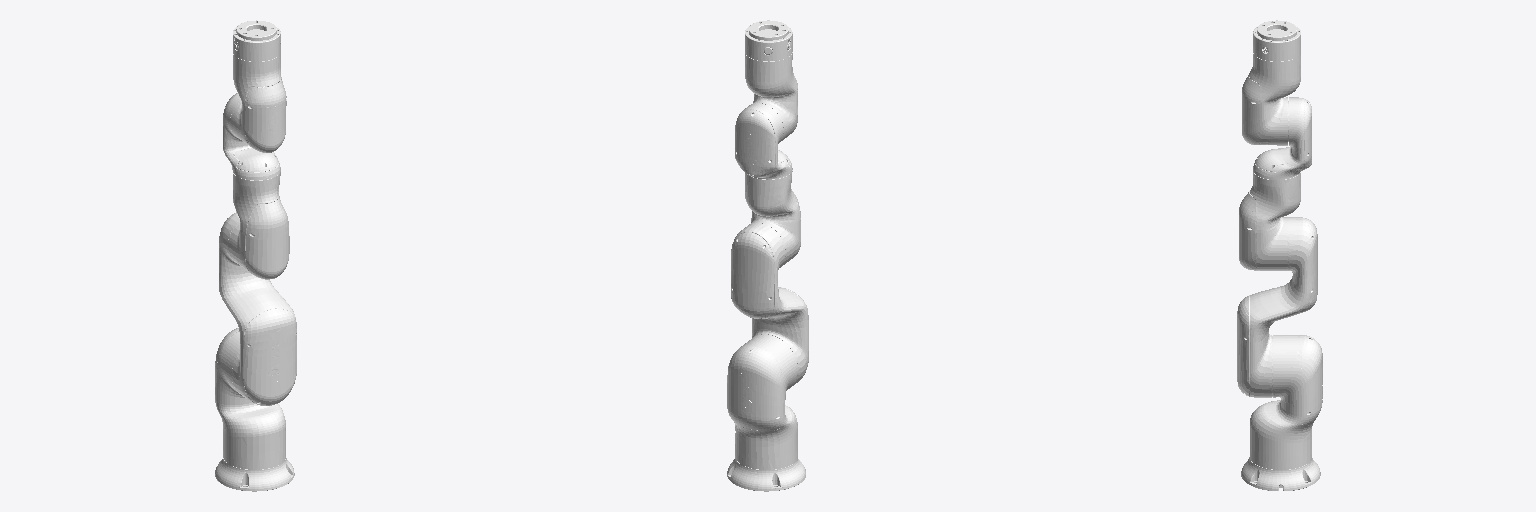
robot.urdf — minicobo_1a:
<?xml version="1.0" encoding="utf-8"?>
<!-- This URDF was automatically created by SolidWorks to URDF Exporter! Originally created by [author] ([email redacted])
     Commit Version: 1.6.0-4-g7f85cfe  Build Version: 1.6.7995.38578
     For more information, please see http://wiki.ros.org/sw_urdf_exporter -->
<robot name="minicobo_1a">

<!-- LINK -->
    <link name="world"/>

  <link name="Link0">
    <inertial>
      <origin xyz="-0.000169872459617813 -2.36448827889745E-08 0.0132846923173683"  rpy="0 0 0" />
      <mass value="3.76174" />
      <inertia ixx="0.000673719313504642" ixy="-1.30755705487849E-08" ixz="-1.3262407834936E-06" iyy="0.000666781851440875" iyz="-1.80735801539484E-11" izz="0.00123663316539255" />
    </inertial>
    <visual>
      <origin xyz="0 0 0" rpy="0 0 0" />
      <geometry>
        <mesh filename="package://minicobo_v14/meshes/Link0.dae" />
      </geometry>
      <material name="">
        <color rgba="1 1 1 1" />
      </material>
    </visual>
    <collision>
      <origin xyz="0 0 0" rpy="0 0 0" />
      <geometry>
        <mesh  filename="package://minicobo_v14/meshes/Link0.dae" />
      </geometry>
    </collision>
  </link>

  <link name="Link1">
    <inertial>
      <origin xyz="-1.99985037409469E-06 0.0134079971540169 -0.061631393869219" rpy="0 0 0" />
      <mass value="3.1571" />
      <inertia ixx="0.0128375469787325" ixy="2.28361925094216E-07" ixz="5.81760635898215E-08" iyy="0.0126762000445666" iyz="-0.00161037595218336" izz="0.00390574573183596" />
    </inertial>
    <visual>
      <origin xyz="0 0 0" rpy="0 0 0" />
      <geometry>
        <mesh filename="package://minicobo_v14/meshes/Link1.dae" />
      </geometry>
      <material
        name="">
        <color rgba="1 1 1 1" />
      </material>
    </visual>
    <collision>
      <origin xyz="0 0 0" rpy="0 0 0" />
      <geometry>
        <mesh  filename="package://minicobo_v14/meshes/Link1.dae" />
      </geometry>
    </collision>
  </link>

<link name="Link2">
    <inertial>
      <origin xyz="0.090613 -1.3771E-06 0.0043964"  rpy="0 0 0" />
      <mass value="1.0141" />
      <inertia ixx="0.0019174" ixy="6.2208E-07" ixz="0.0022687" iyy="0.0073149"  iyz="-3.3214E-07" izz="0.0064681" />
    </inertial>
    <visual>
      <origin xyz="0 0 0" rpy="0 0 0" />
      <geometry>
        <mesh filename="package://minicobo_v14/meshes/Link2.dae" />
      </geometry>
      <material name="">
        <color rgba="1 1 1 1" />
      </material>
    </visual>
    <collision>
      <origin xyz="0 0 0" rpy="0 0 0" />
      <geometry>
        <mesh filename="package://minicobo_v14/meshes/Link2.dae" />
      </geometry>
    </collision>
  </link>

<link name="Link3">
    <inertial>
      <origin xyz="-2.836E-07 0.042086 0.012428" rpy="0 0 0" />
      <mass  value="2.018" />
      <inertia ixx="0.0055107" ixy="2.2287E-08" ixz="-3.4784E-08" iyy="0.0017496" iyz="0.0005528" izz="0.0052708" />
    </inertial>
    <visual>
      <origin xyz="0 0 0" rpy="0 0 0" />
      <geometry>
        <mesh filename="package://minicobo_v14/meshes/Link3.dae" />
      </geometry>
      <material name="">
        <color rgba="1 1 1 1" />
      </material>
    </visual>
    <collision>
      <origin xyz="0 0 0" rpy="0 0 0" />
      <geometry>
        <mesh filename="package://minicobo_v14/meshes/Link3.dae" />
      </geometry>
    </collision>
  </link>

<link name="Link4">
    <inertial>
      <origin xyz="-5.23366787087349E-06 0.025945911865393 -0.0349284126752025" rpy="0 0 0" />
      <mass value="0.412340000009804" />
      <inertia ixx="0.000648308078586465" ixy="2.01279577389176E-08" ixz="-2.91846428270101E-08" iyy="0.000622438484108618" iyz="-0.000147788635079694" izz="0.000313549566736677" />
    </inertial>
    <visual>
      <origin xyz="0 0 0" rpy="0 0 0" />
      <geometry>
        <mesh filename="package://minicobo_v14/meshes/Link4.dae" />
      </geometry>
      <material name="">
        <color rgba="1 1 1 1" />
      </material>
    </visual>
    <collision>
      <origin xyz="0 0 0" rpy="0 0 0" />
      <geometry>
        <mesh filename="package://minicobo_v14/meshes/Link4.dae" />
      </geometry>
    </collision>
  </link>

<link name="Link5">
    <inertial>
      <origin xyz="8.7254E-06 0.044553 0.010268" rpy="0 0 0" />
      <mass  value="1.6793" />
      <inertia ixx="0.0040718" ixy="4.0506E-07"  ixz="1.0998E-07" iyy="0.0013014" iyz="0.00040116" izz="0.0039042" />
    </inertial>
    <visual>
      <origin xyz="0 0 0" rpy="0 0 0" />
      <geometry>
        <mesh filename="package://minicobo_v14/meshes/Link5.dae" />
      </geometry>
      <material name="">
        <color rgba="1 1 1 1" />
      </material>
    </visual>
    <collision>
      <origin xyz="0 0 0" rpy="0 0 0" />
      <geometry>
        <mesh filename="package://minicobo_v14/meshes/Link5.dae" />
      </geometry>
    </collision>
  </link>

<link name="Link6">
    <inertial>
      <origin xyz="-2.33954680956047E-05 3.42676856690269E-05 -0.0202928698270544" rpy="0 0 0" />
      <mass value="0.311970001247665" />
      <inertia ixx="0.00014377819366" ixy="-8.50913479195225E-07"  ixz="-2.37501745813128E-07"  iyy="0.000142682702873271"  iyz="-3.26920852568197E-08" izz="0.000221812602025683" />
    </inertial>
    <visual>
      <origin xyz="0 0 0"  rpy="0 0 0" />
      <geometry>
        <mesh  filename="package://minicobo_v14/meshes/Link6.dae" />
      </geometry>
      <material name="">
        <color rgba="1 1 1 1" />
      </material>
    </visual>
    <collision>
      <origin xyz="0 0 0" rpy="0 0 0" />
      <geometry>
        <mesh filename="package://minicobo_v14/meshes/Link6.dae" />
      </geometry>
    </collision>
  </link>

<link name="dummy_tcp">
</link>

<link name="tool0">
    <visual>
        <origin xyz = "0 -0.15 0" rpy = "0 0.7853 0" />
        <geometry>
           <mesh filename="package://minicobo_v14/meshes/jaka_camera_endpoint.dae" scale="0.01 0.01 0.01" />
         </geometry>
         <material name = "red">
             <color rgba = "1 0 0  1" />
         </material>
     </visual>
</link>

  <!-- JOINT -->

    <joint name="world_joint" type="fixed">
        <parent link="world"/>
        <child link="Link0"/>
    </joint>

  <joint name="Joint1" type="revolute">
    <origin xyz="0 0 0.187" rpy="0 0 0" />
    <parent link="Link0" />
    <child link="Link1" />
    <axis xyz="0 0 1" />
    <limit lower="-6.28" upper="6.28"  effort="100" velocity="1.57" />
  </joint>

  <joint  name="Joint2" type="revolute">
    <origin xyz="0 -0.006 0" rpy="1.5708 -1.5708 0" />
    <parent  link="Link1" />
    <child link="Link2" />
    <axis xyz="0 0 1" />
    <limit lower="-2.09" upper="2.09" effort="100" velocity="1.57" />
  </joint>

  <joint  name="Joint3" type="revolute">
    <origin xyz="0.21 0 0" rpy="0 0 -1.5708" />
    <parent link="Link2" />
    <child link="Link3" />
    <axis xyz="0 0 1" />
    <limit lower="-2.27" upper="2.27" effort="100" velocity="1.57" />
  </joint>

  <joint name="Joint4" type="revolute">
    <origin xyz="0 0.2105 0" rpy="-1.5708 0 0" />
    <parent link="Link3" />
    <child link="Link4" />
    <axis xyz="0 0 1" />
    <limit lower="-6.28" upper="6.28" effort="100" velocity="1.57" />
  </joint>

  <joint name="Joint5" type="revolute">
    <origin xyz="0 0 0" rpy="1.5708 0 0" />
    <parent link="Link4" />
    <child link="Link5" />
    <axis xyz="0 0 1" />
    <limit lower="-2.09" upper="2.09" effort="100" velocity="1.57" />
  </joint>

  <joint name="Joint6" type="revolute">
    <origin xyz="0 0.1593 0" rpy="-1.5708 0 0" />
    <parent  link="Link5" />
    <child link="Link6" />
    <axis xyz="0 0 1" />
    <limit lower="-6.28" upper="6.28" effort="100" velocity="1.57" />
  </joint>

  <joint name="dummy_tcp_joint" type="fixed">
        <origin xyz="0 0 0" rpy="0 0 0" />
        <parent link="Link6" />
        <child link="dummy_tcp" />
  </joint>


  <joint name="flange_tool0" type="fixed">
    <!-- default toolframe - X+ left, Y+ up, Z+ front -->
    <origin rpy="1.5707963267948966 0 1.5707963267948966" xyz="0 0 0.15"/>
    <parent link="dummy_tcp"/>
    <child link="tool0"/>
  </joint>

</robot>

--- Facts derived from the render (not from the file) ---
Views: 3 orthographic renders of the robot side by side, from view 1: azimuth 30°, elevation 25°; view 2: azimuth 150°, elevation 25°; view 3: azimuth 270°, elevation 25°.
Model minicobo_1a with 10 links and 9 joints (6 revolute, 3 fixed), rooted at world, posed every joint at zero.
Visible links, largest first — view 1: Link2, Link1, Link3, Link5, Link4, Link6, Link0; view 2: Link1, Link2, Link4, Link3, Link5, Link6, Link0; view 3: Link1, Link2, Link3, Link5, Link4, Link6, Link0.
Boxes of the visible links, box(x1,y1,x2,y2) form: Link2: box(219, 212, 296, 405); Link1: box(215, 328, 285, 469); Link3: box(228, 172, 289, 279); Link5: box(230, 53, 286, 152); Link4: box(223, 93, 280, 180); Link6: box(233, 20, 280, 61); Link0: box(215, 458, 294, 491); Link1: box(727, 334, 797, 469); Link2: box(731, 223, 808, 385); Link4: box(735, 103, 792, 179); Link3: box(745, 170, 800, 267); Link5: box(745, 52, 797, 142); Link6: box(745, 20, 792, 61); Link0: box(727, 458, 805, 491); Link1: box(1250, 335, 1322, 469); Link2: box(1237, 217, 1317, 397); Link3: box(1239, 172, 1300, 270); Link5: box(1242, 53, 1300, 145); Link4: box(1253, 97, 1311, 179); Link6: box(1253, 20, 1300, 61); Link0: box(1241, 457, 1320, 490).
Bounding box of the posed robot: 0.1238 × 0.133 × 0.7668 m (x, y, z).
Meshes: 8 distinct files referenced, 7 mesh visuals loaded (7 Collada DAE); not drawn: 1 (reference not matched to a file when rendering).
